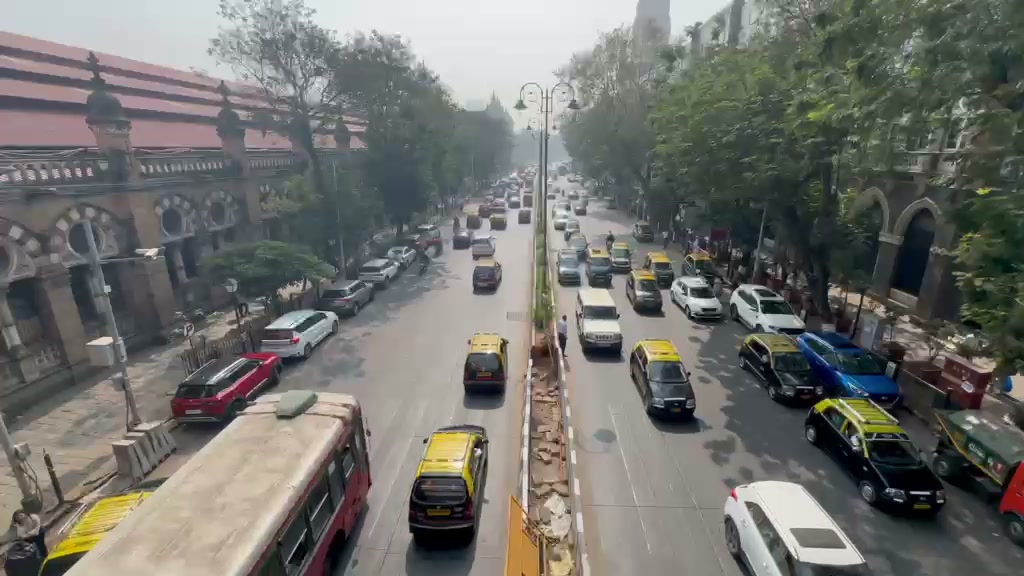bus: (59, 388, 374, 572)
car: (801, 395, 948, 517), (407, 423, 490, 545), (795, 330, 903, 409), (170, 351, 283, 424), (738, 332, 825, 407), (628, 338, 697, 420), (256, 308, 338, 361), (729, 284, 806, 334), (576, 287, 624, 354), (463, 332, 508, 396), (670, 275, 724, 323), (315, 277, 375, 319), (997, 460, 1024, 547), (625, 273, 664, 316), (357, 257, 401, 288), (471, 262, 502, 295), (585, 255, 615, 288), (556, 253, 582, 286), (470, 233, 496, 261)
pedestrian: (1, 510, 48, 576)
truck: (801, 395, 947, 517), (721, 479, 872, 575), (931, 407, 1023, 496)
